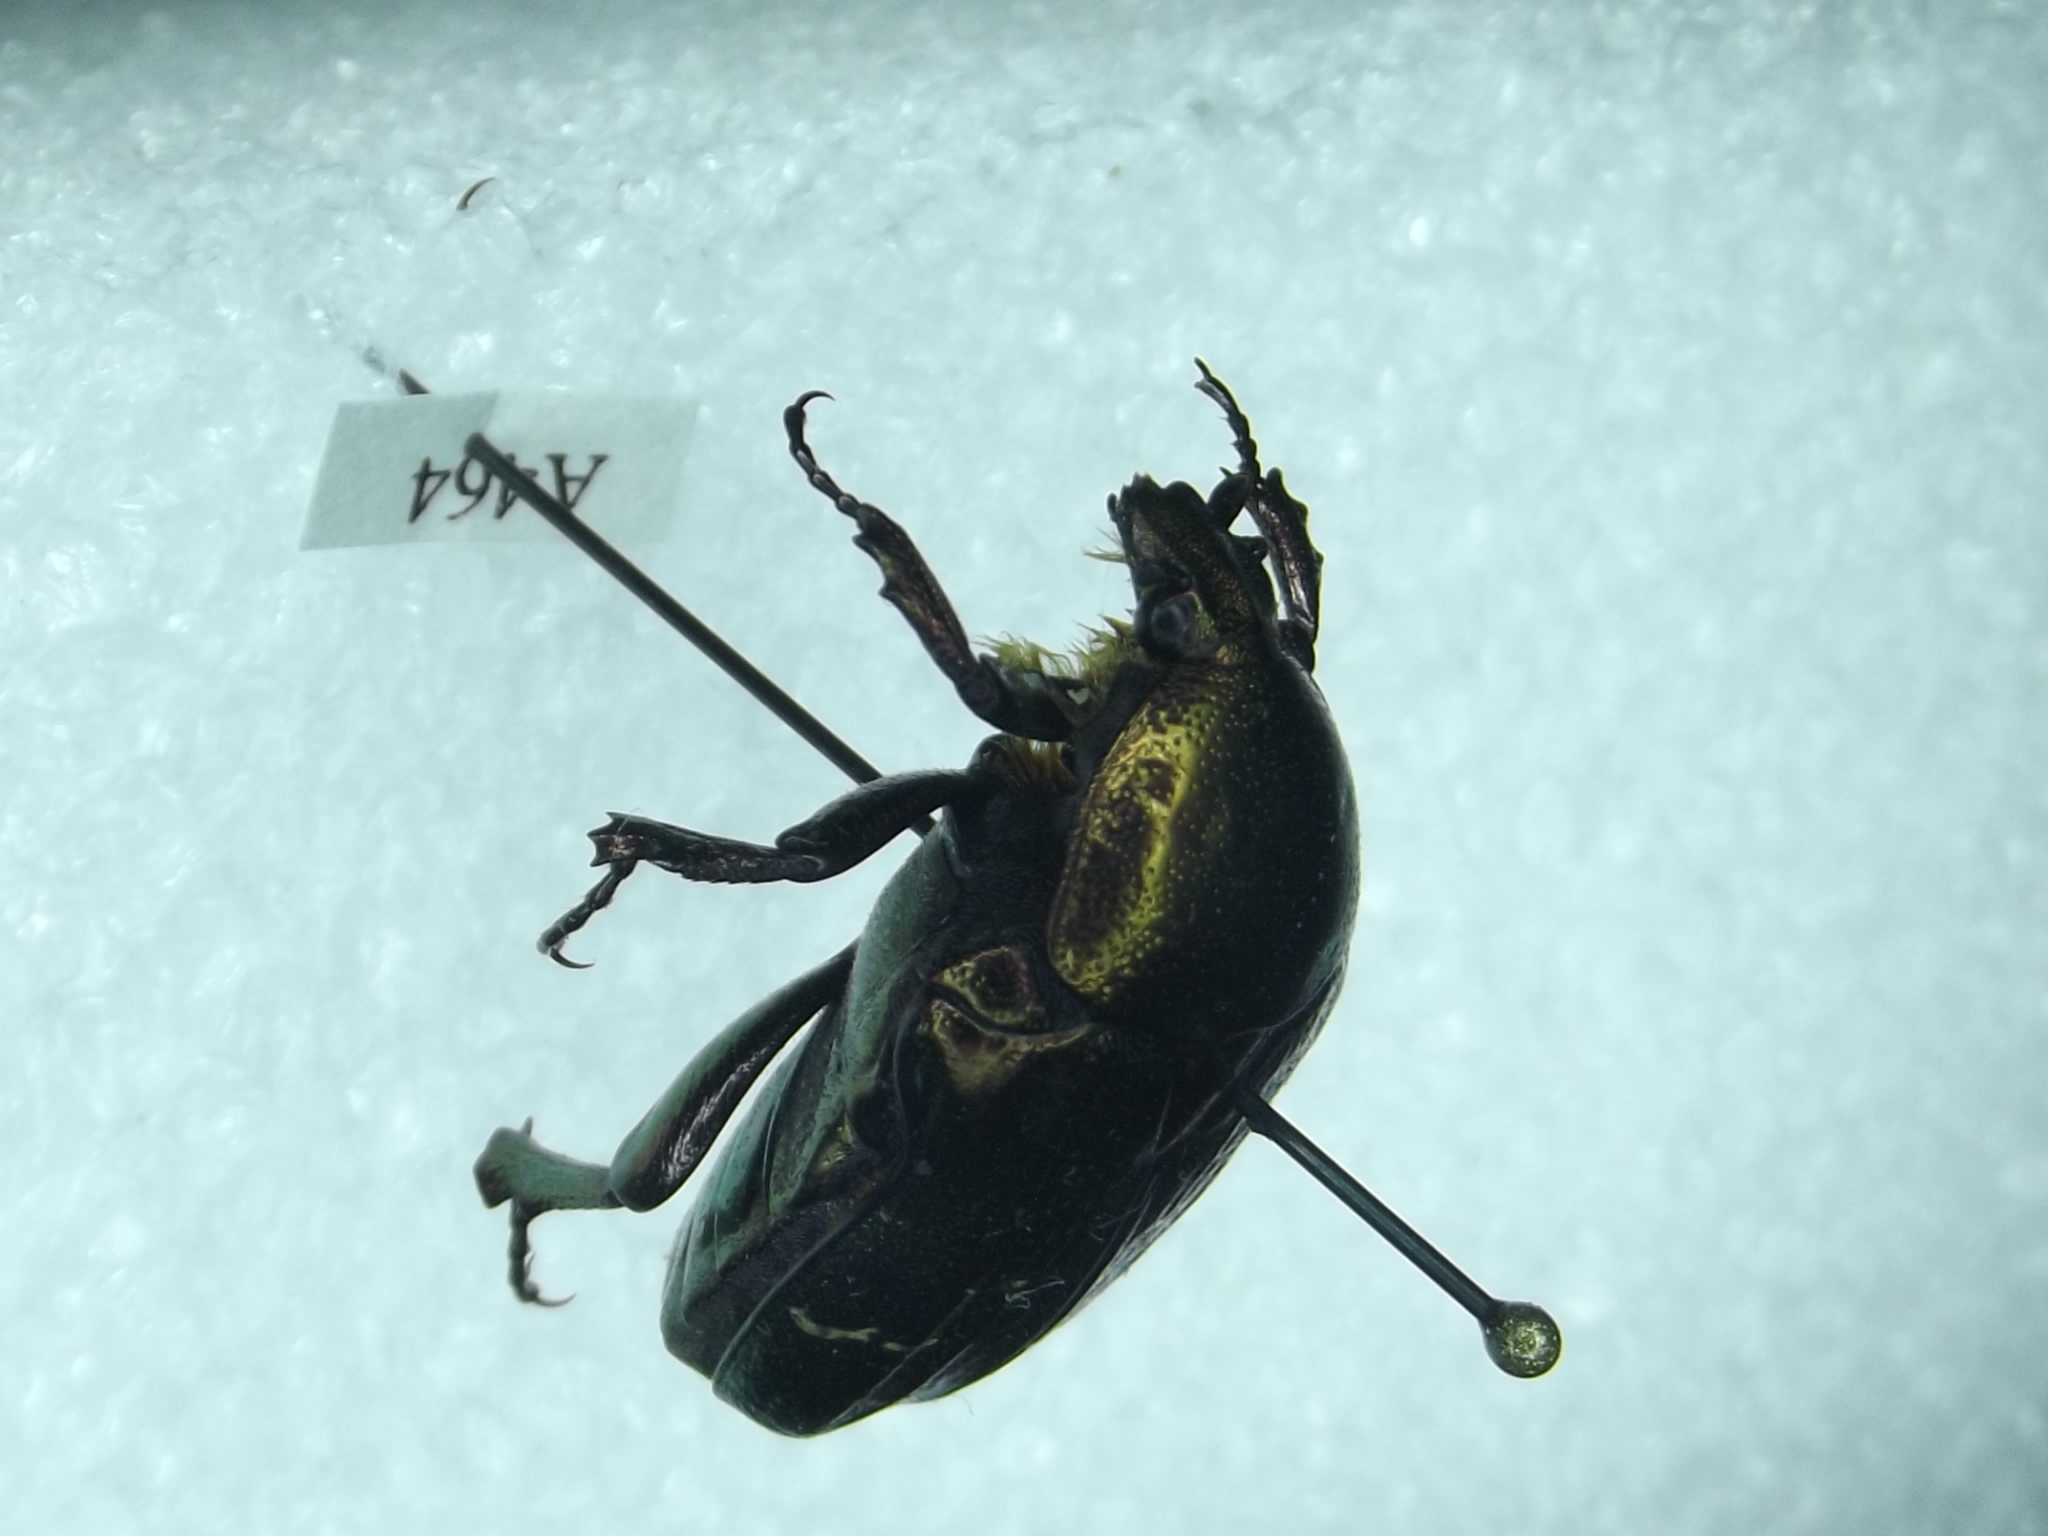Cetonia_kemali: (458, 352, 1372, 1463)
